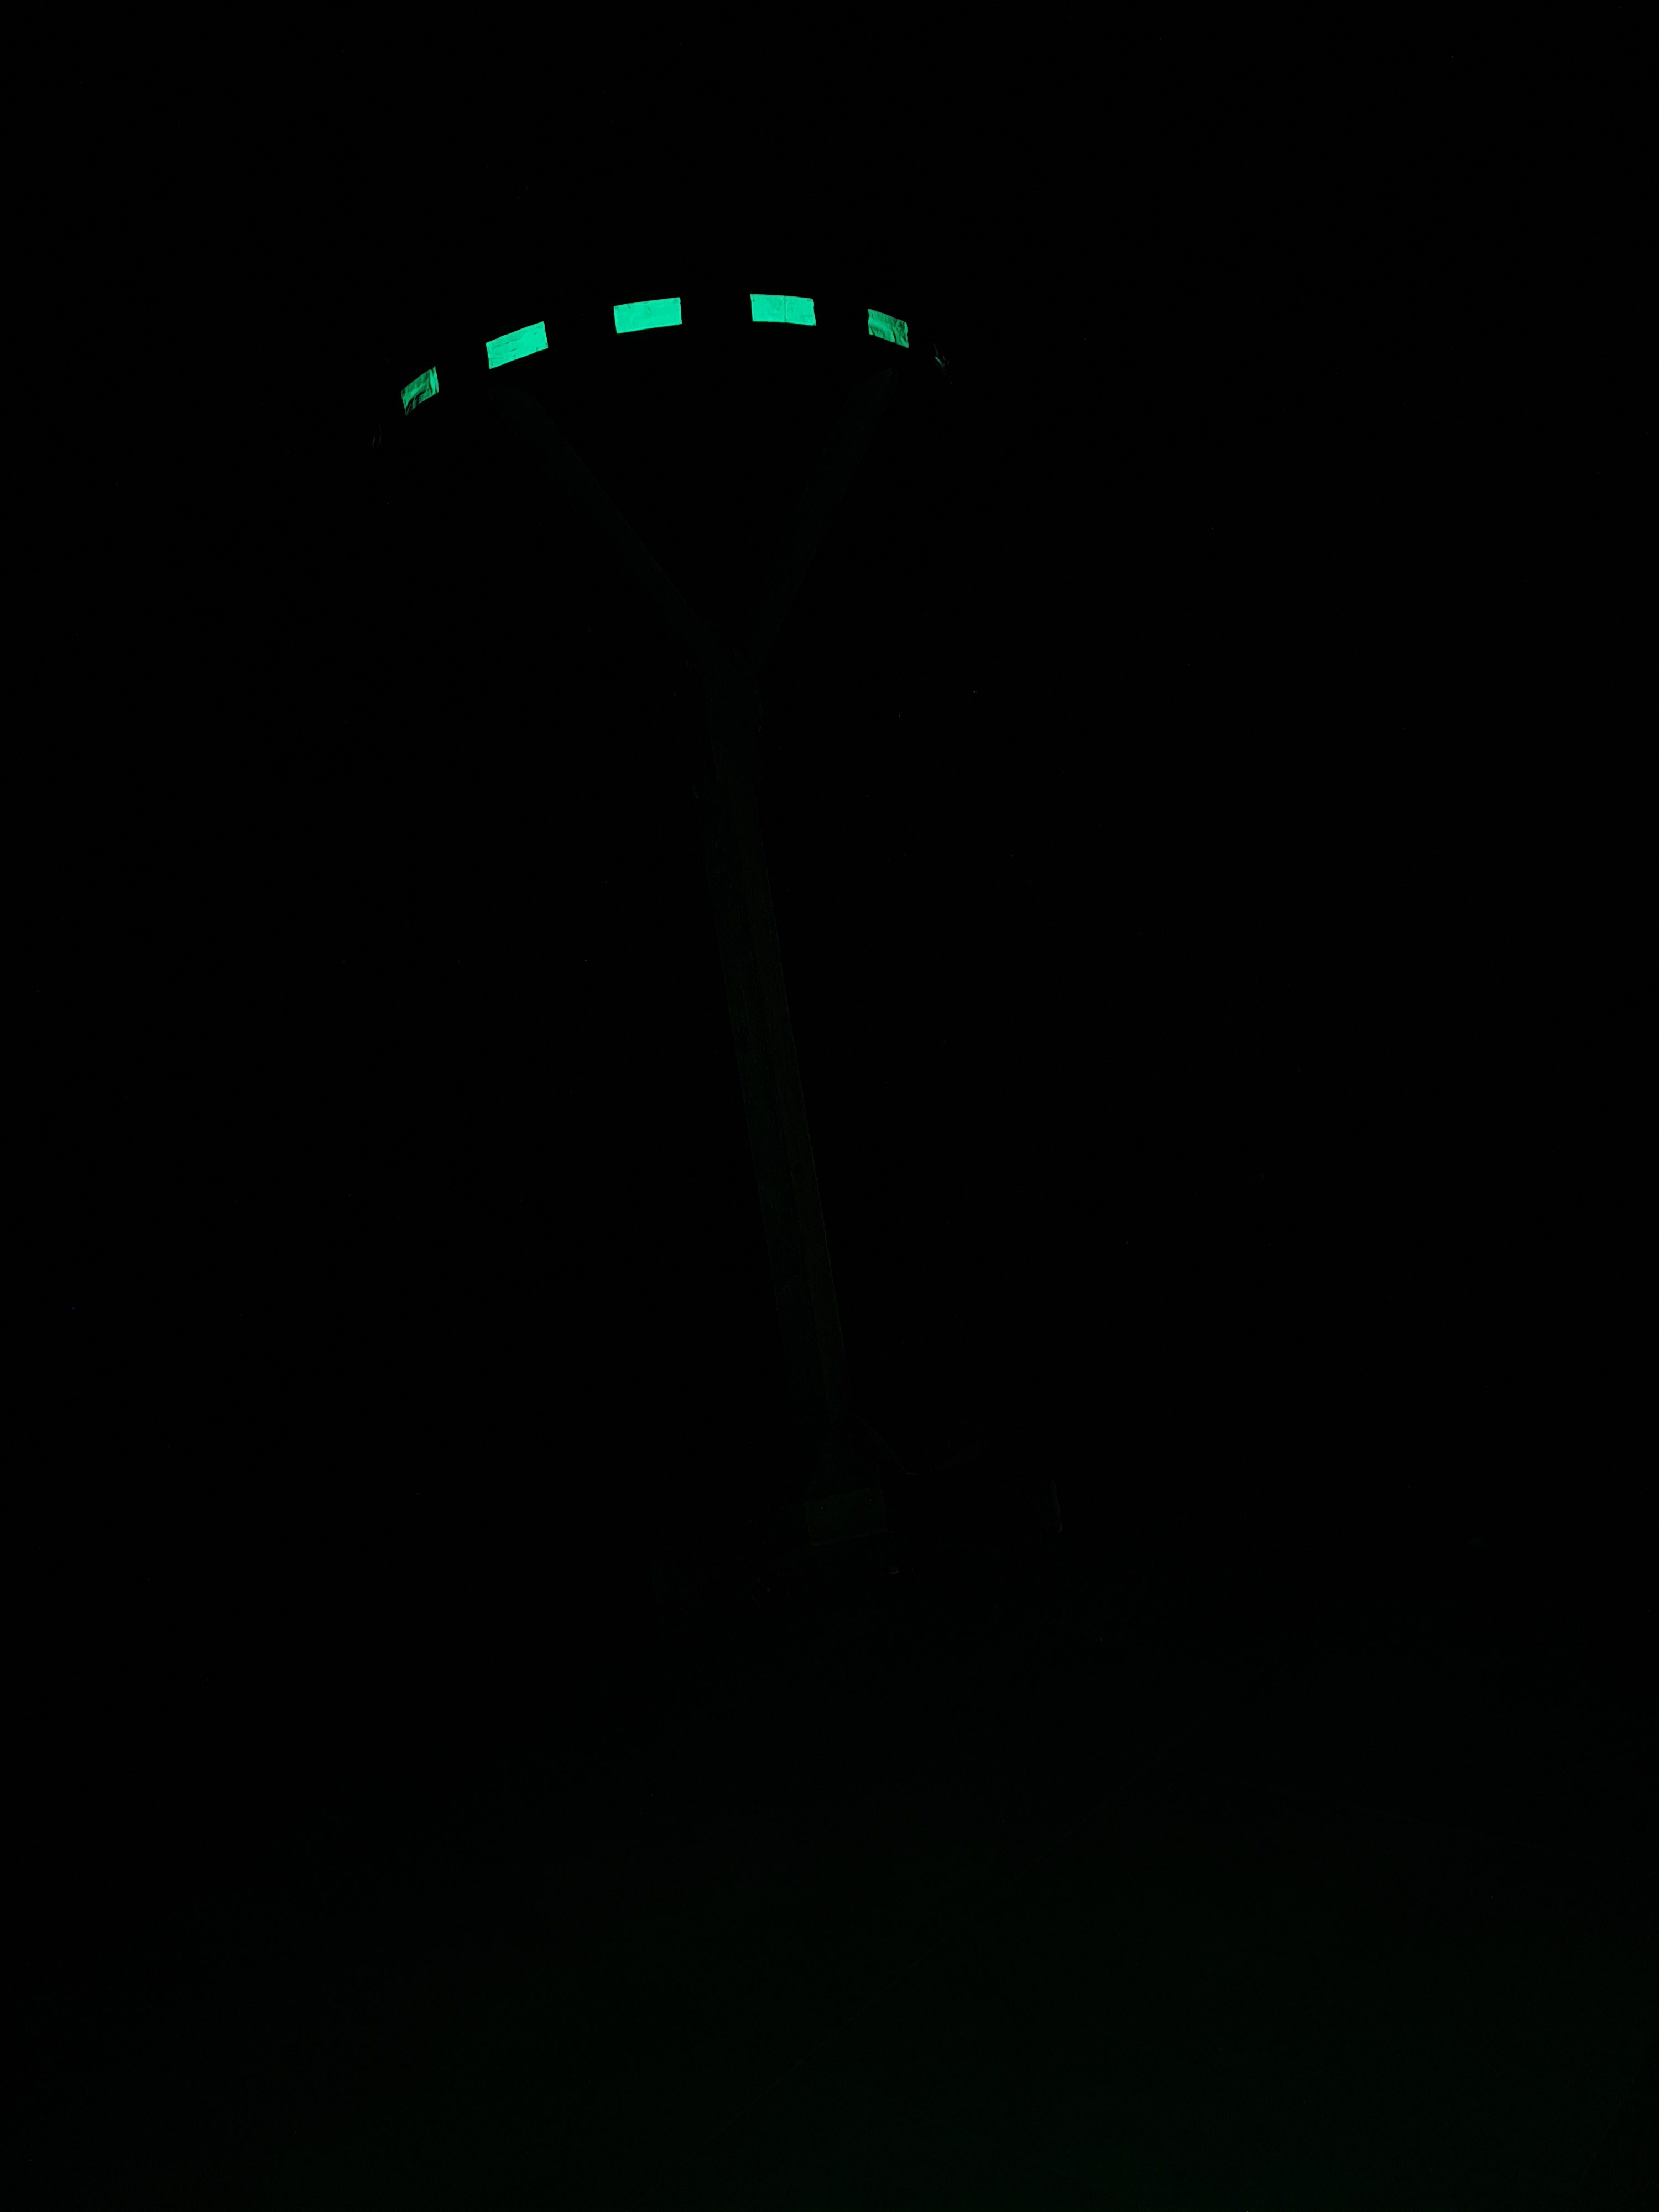hoop: (399, 289, 913, 413)
